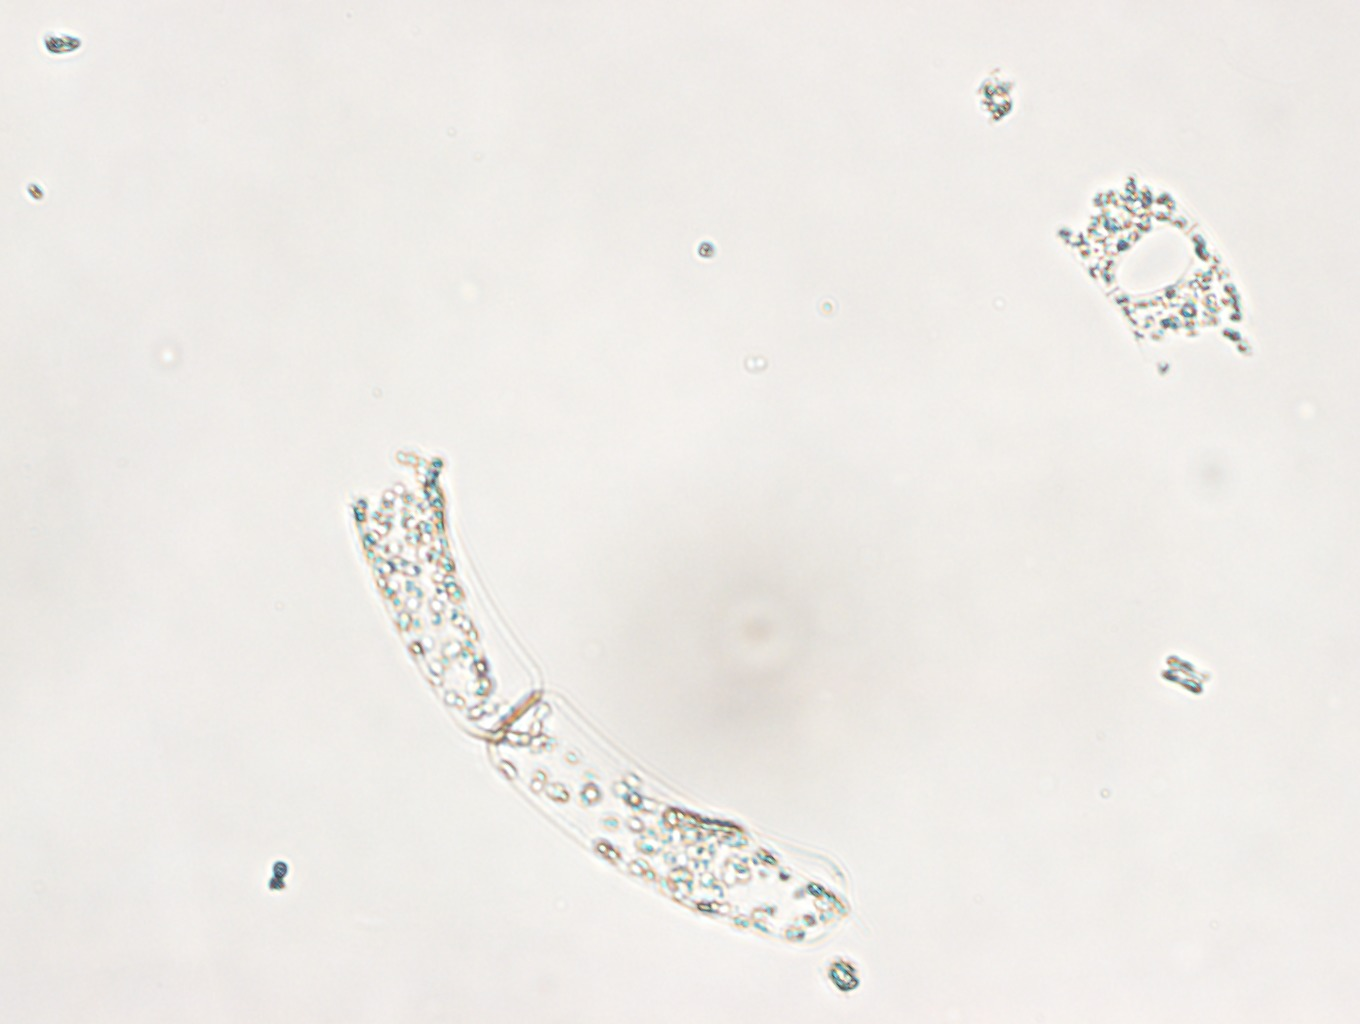eucampia: (1055, 174, 1257, 366)
